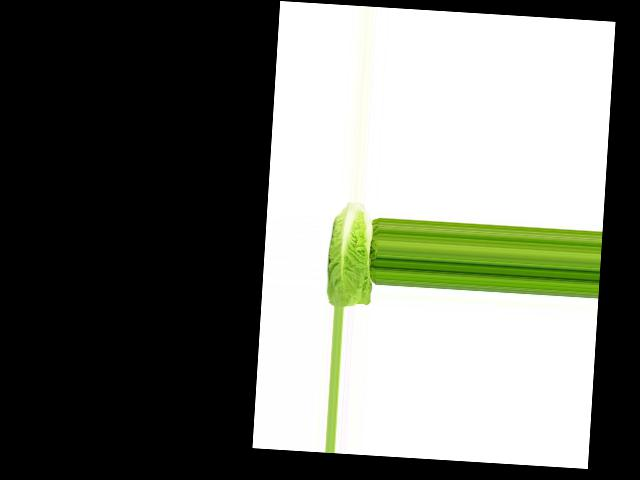lettuce: (318, 200, 375, 309)
